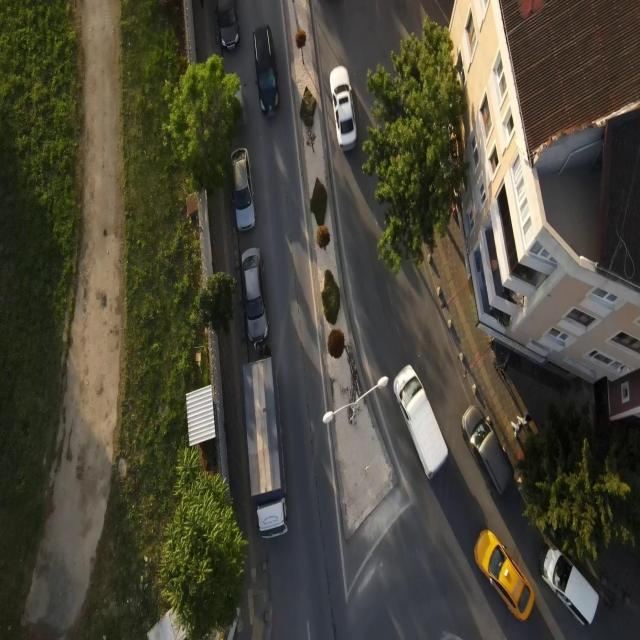p3rson: (510, 420, 522, 437), (517, 414, 532, 425), (502, 360, 508, 376), (254, 342, 260, 353), (198, 0, 204, 9)
